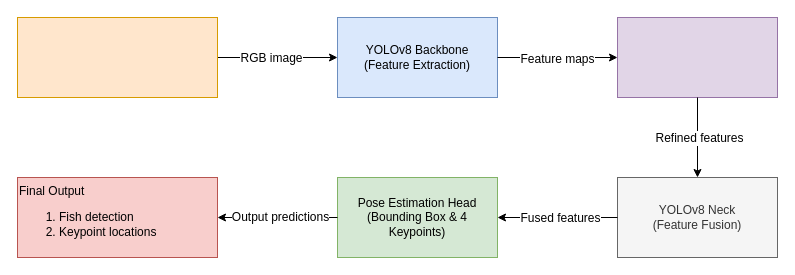
This 795x275 diagram has some shape labels left out. The centre of each missing label's shape, as x and y in pixels:
Input Image: RGB underwater image Resized & normalized: pixel 117 57
SE Attention Module (Channel Reweighting): pixel 697 57
